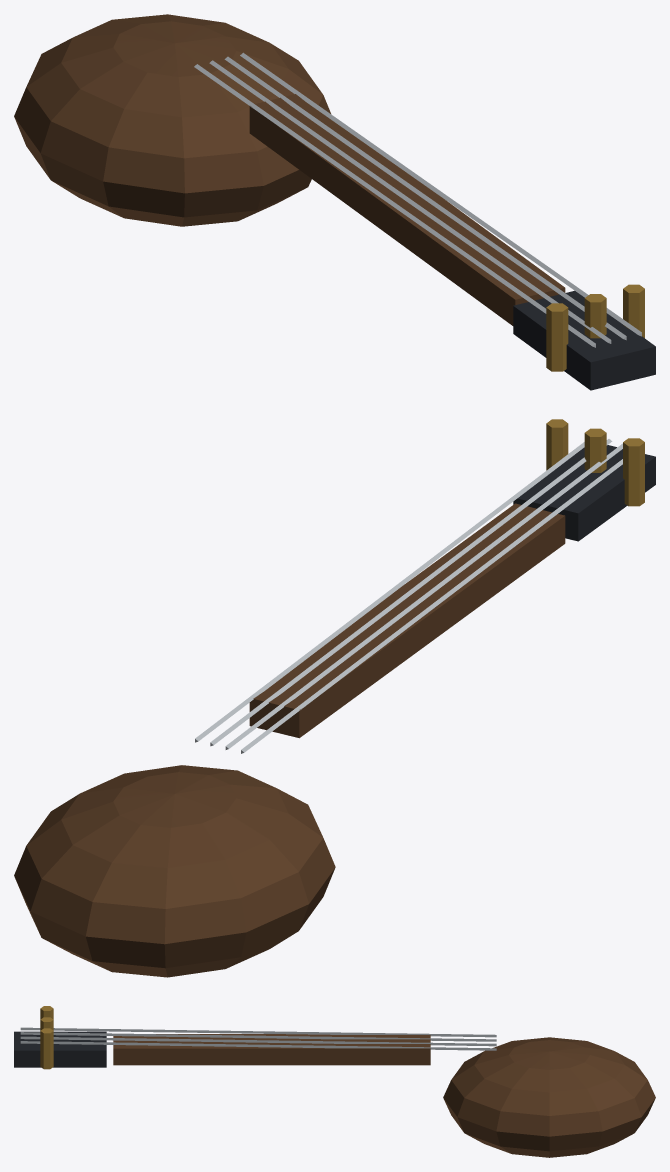
File: lute.glb
3 renders of one model, top to bottom at view 1: azimuth 30°, elevation 25°; view 2: azimuth 150°, elevation 25°; view 3: azimuth 270°, elevation 25°, orthographic. The views are drawn at different scales.
Visible parts, largest first — view 1: m; view 2: m; view 3: m.
Part boxes in pixels (x1=…): m: x1=14, y1=14, x2=655, y2=390; m: x1=14, y1=419, x2=655, y2=977; m: x1=14, y1=1006, x2=655, y2=1157.
Size of the model in its own units: 0.1298 by 0.0959 by 0.45.
